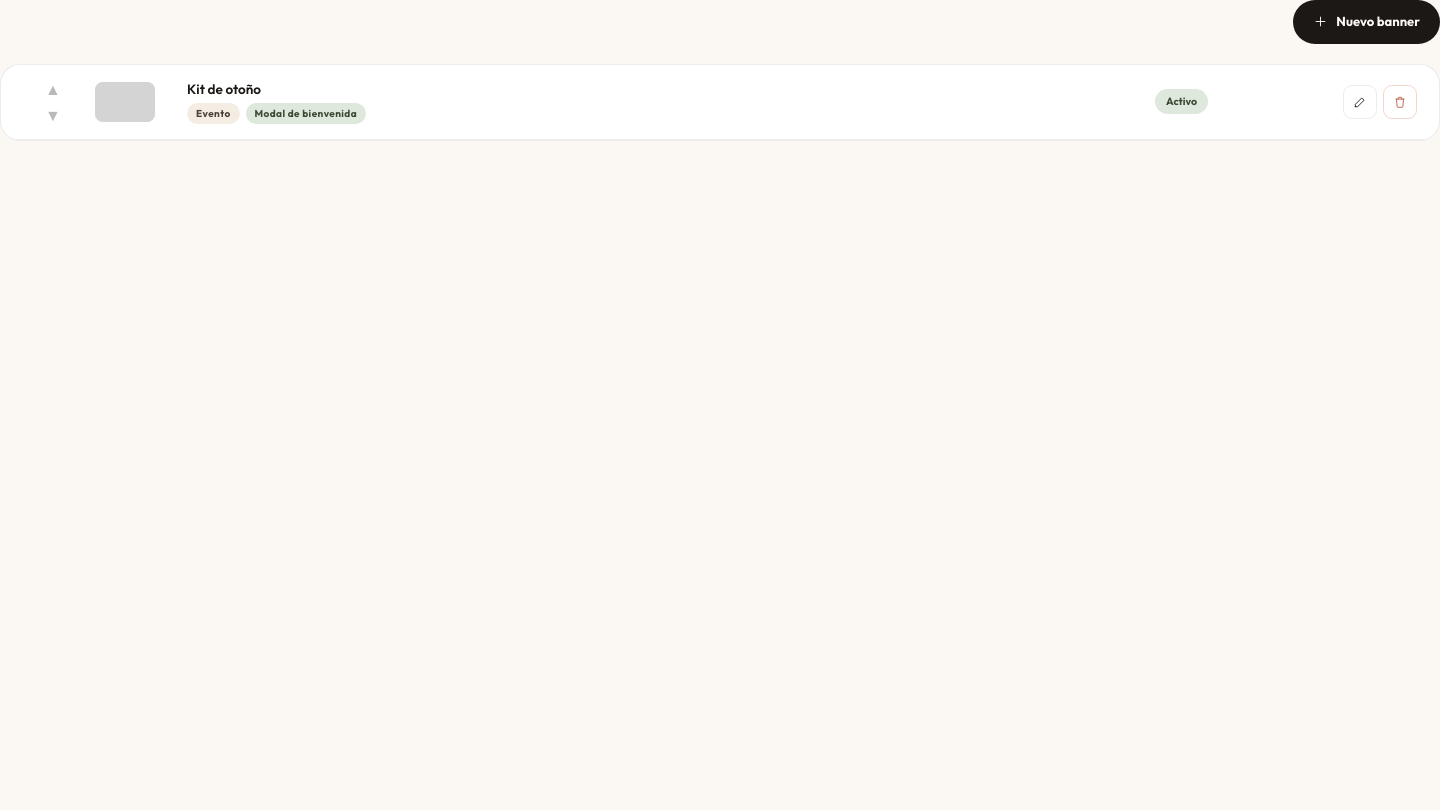
AdminBanners › prefills category, actionType and placements when editing an existing banner
This screenshot has width=1440, height=810.
Click the button named "Editar banner" at (1360, 102), box [1343,84,1377,118]
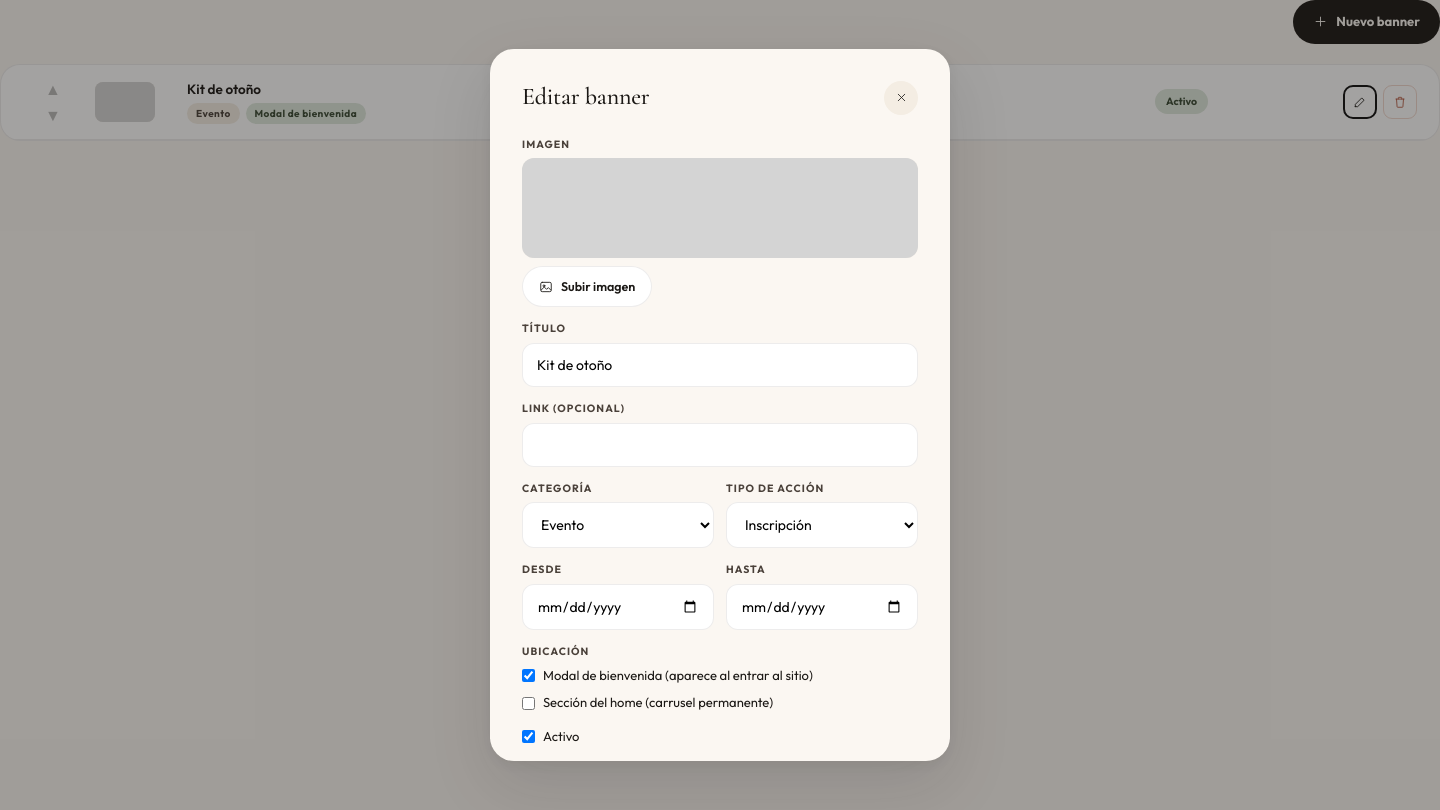
Expected: the dropdown labelled "Categoría" shows "Evento", [522,502,714,548]
Expected: the dropdown labelled "Tipo de acción" shows "Inscripción", [726,502,918,548]
Expected: the checkbox labelled "Modal de bienvenida (aparece al entrar al sitio)" is checked, [522,669,535,682]
